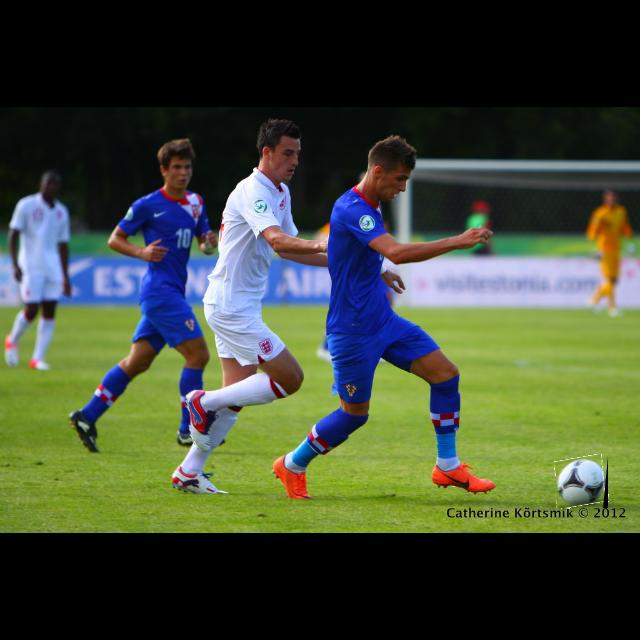Football: (556, 456, 608, 508)
